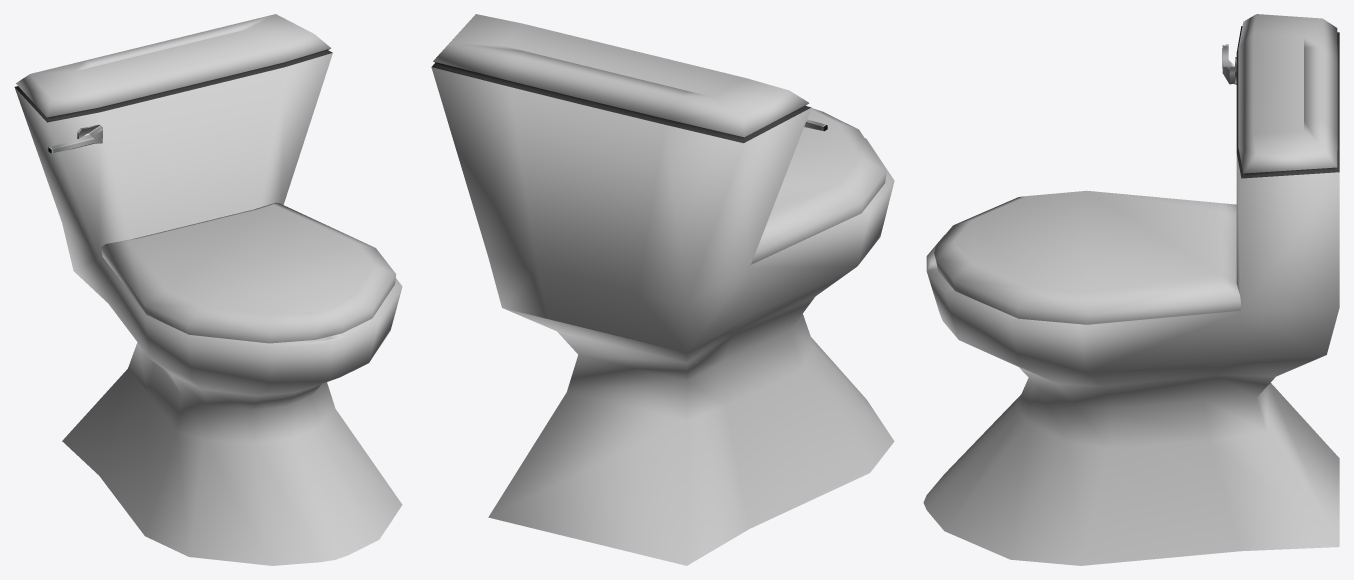
The model's file is Potty_A.FBX.
3 renders of one model, left to right at view 1: azimuth 30°, elevation 25°; view 2: azimuth 150°, elevation 25°; view 3: azimuth 270°, elevation 25°, orthographic. The views are drawn at different scales.
Visible parts, largest first — view 1: Potty; view 2: Potty; view 3: Potty.
Boxes of the visible parts, left/top/right/bottom form: Potty: left=14, top=14, right=402, bottom=565; Potty: left=431, top=14, right=894, bottom=565; Potty: left=923, top=14, right=1339, bottom=565.
Size of the model in its own units: 140 by 176 by 159.
